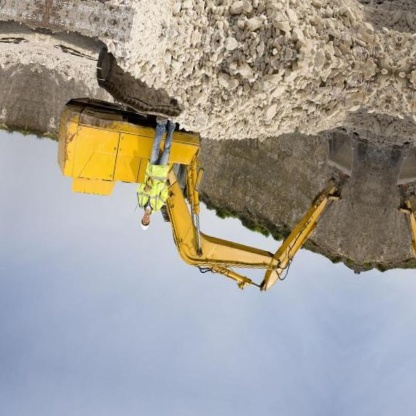vest: (130, 156, 175, 218)
white: (135, 220, 152, 234)
